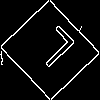L: (25, 25, 77, 77)
